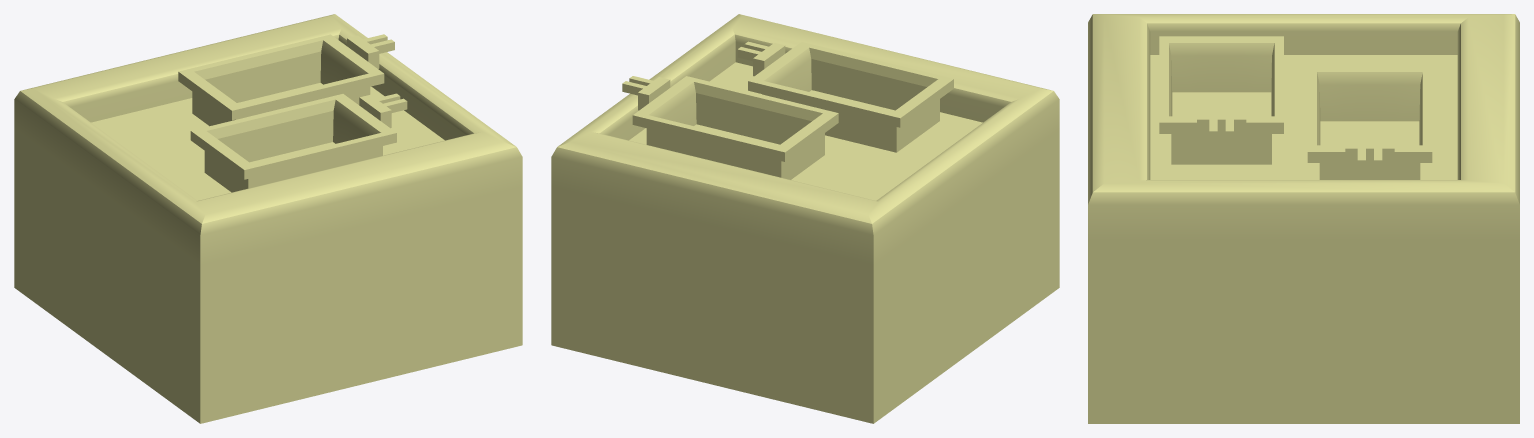
File: Bollitore.fbx
The picture shows the model from 3 angles, left to right: view 1: azimuth 30°, elevation 25°; view 2: azimuth 150°, elevation 25°; view 3: azimuth 270°, elevation 25°; orthographic projection. The views are drawn at different scales.
Parts seen in each view (by area): view 1: Bollitore; view 2: Bollitore; view 3: Bollitore.
Boxes of the visible parts, left/top/right/bottom form: Bollitore: left=14, top=14, right=522, bottom=423; Bollitore: left=551, top=14, right=1059, bottom=423; Bollitore: left=1088, top=14, right=1519, bottom=423.
Bounding box in the file's own units: 1 × 0.6564 × 1.
